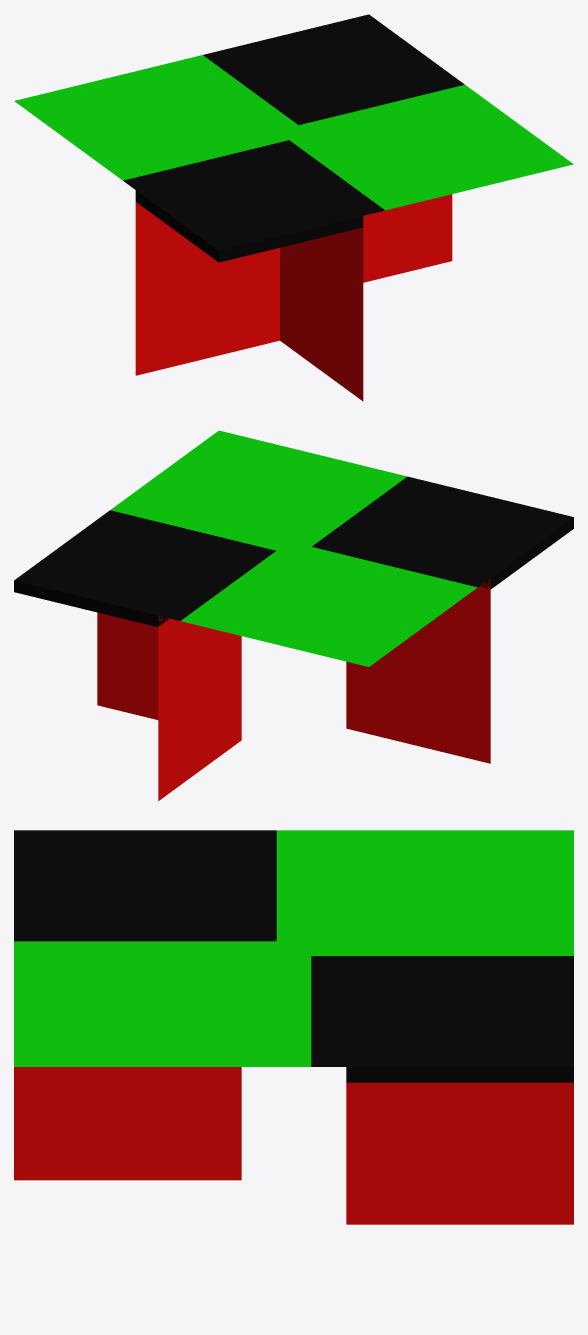
3 renders of one model, top to bottom at view 1: azimuth 30°, elevation 25°; view 2: azimuth 150°, elevation 25°; view 3: azimuth 270°, elevation 25°, orthographic. The views are drawn at different scales.
Visible parts, largest first — view 1: None_P_W_E_E_W_P_E_E_None; view 2: None_P_W_E_E_W_P_E_E_None; view 3: None_P_W_E_E_W_P_E_E_None.
Part boxes in pixels (x1,y1,x2,y2): None_P_W_E_E_W_P_E_E_None: [14, 14, 573, 401]; None_P_W_E_E_W_P_E_E_None: [14, 430, 573, 800]; None_P_W_E_E_W_P_E_E_None: [14, 830, 573, 1224].
Bounding box in the file's own units: 100 × 50 × 100.
